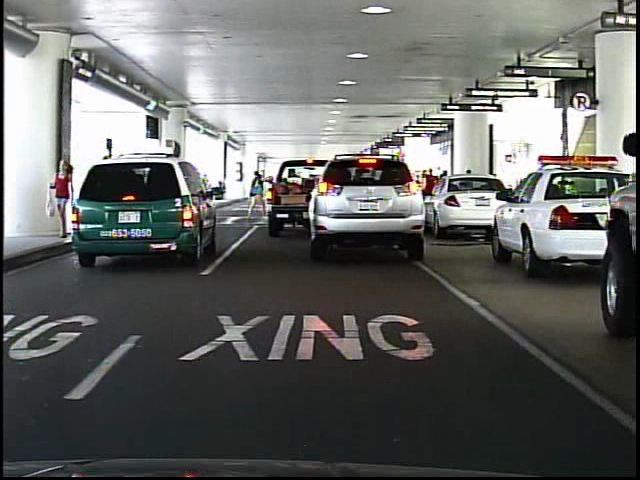person: (52, 154, 76, 239), (244, 168, 268, 224)
